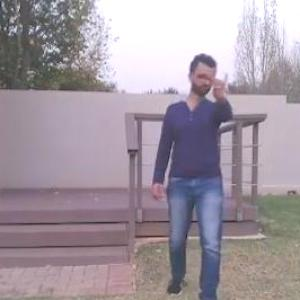takeoff-hand: (203, 63, 236, 105)
